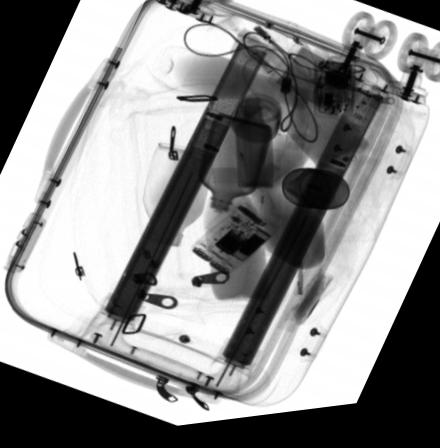Powerbank: (269, 51, 393, 143)
